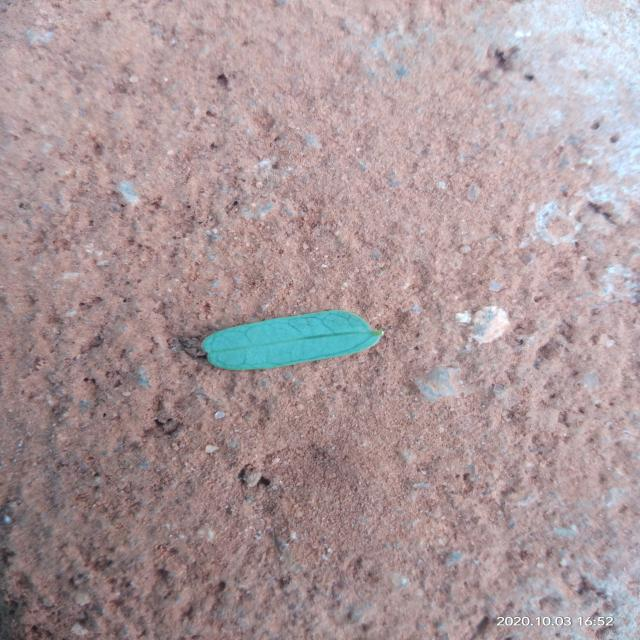tamarind: (202, 310, 383, 370)
